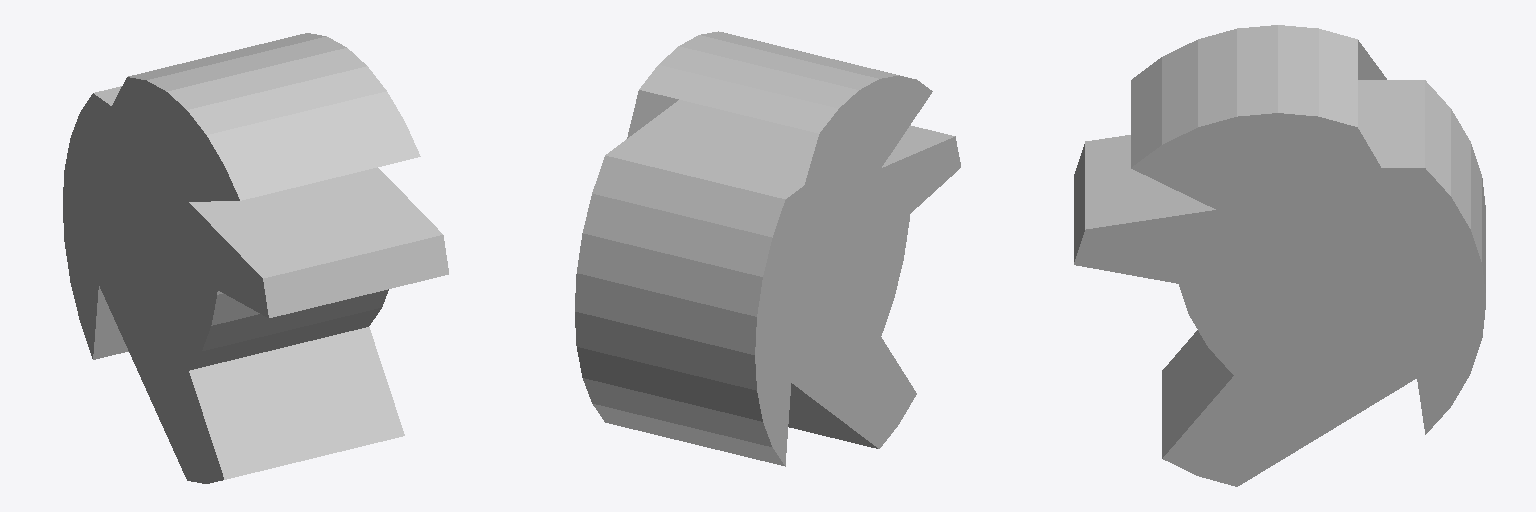
File: non-convex.obj
The picture shows the model from 3 angles: view 1: azimuth 30°, elevation 25°; view 2: azimuth 150°, elevation 25°; view 3: azimuth 270°, elevation 25°; orthographic projection.
Visible parts, largest first — view 1: Cylinder; view 2: Cylinder; view 3: Cylinder.
Boxes of the visible parts, box(x1,y1,x2,y2) form: Cylinder: box(63, 33, 448, 483); Cylinder: box(575, 31, 960, 466); Cylinder: box(1074, 25, 1485, 486).
Size of the model in its own units: 1 by 1.98 by 1.98.